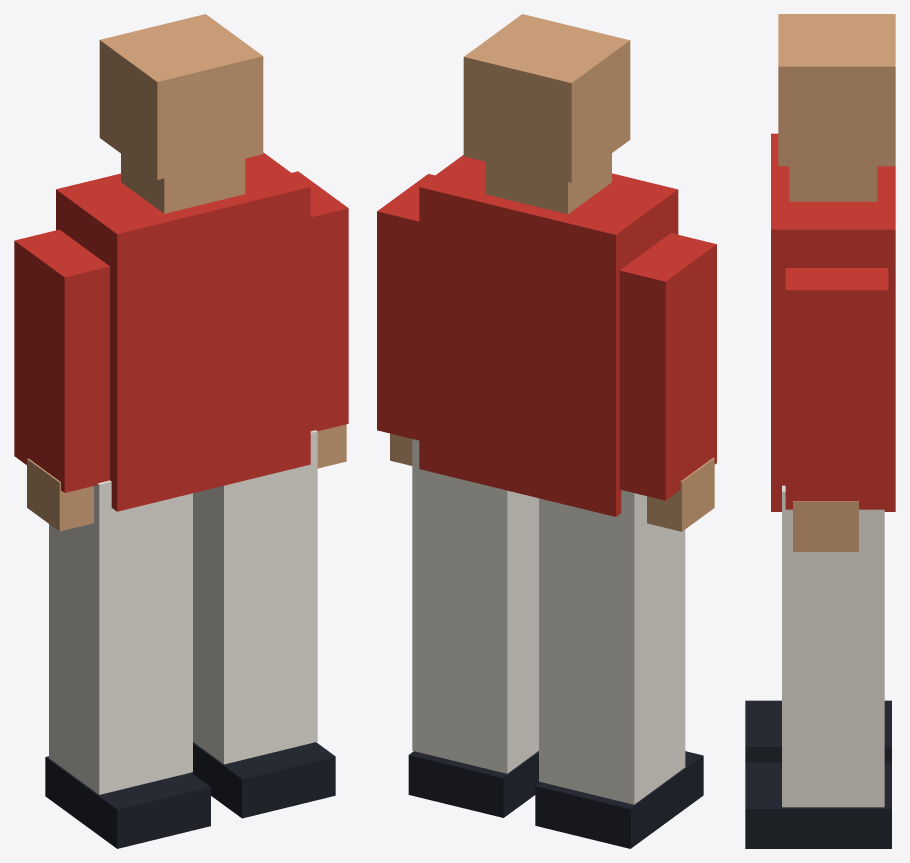
File: spectatorStandA.glb
The picture shows the model from 3 angles, left to right: view 1: azimuth 30°, elevation 25°; view 2: azimuth 150°, elevation 25°; view 3: azimuth 270°, elevation 25°; orthographic projection.
Parts seen in each view (by area): view 1: spectatorStandA_red, spectatorStandA_white, spectatorStandA_skin, spectatorStandA_black; view 2: spectatorStandA_red, spectatorStandA_white, spectatorStandA_skin, spectatorStandA_black; view 3: spectatorStandA_red, spectatorStandA_white, spectatorStandA_skin, spectatorStandA_black.
Part boxes in pixels (bbox=[...]): spectatorStandA_red: bbox=[14, 152, 348, 511]; spectatorStandA_white: bbox=[49, 430, 317, 794]; spectatorStandA_skin: bbox=[27, 14, 346, 531]; spectatorStandA_black: bbox=[45, 742, 335, 848]; spectatorStandA_red: bbox=[377, 155, 716, 516]; spectatorStandA_white: bbox=[412, 439, 685, 804]; spectatorStandA_skin: bbox=[390, 14, 714, 531]; spectatorStandA_black: bbox=[408, 751, 703, 848]; spectatorStandA_red: bbox=[771, 133, 895, 511]; spectatorStandA_white: bbox=[782, 485, 884, 807]; spectatorStandA_skin: bbox=[778, 14, 895, 551]; spectatorStandA_black: bbox=[745, 700, 891, 848].
Size of the model in its own units: 0.92 by 2.27 by 0.41.
